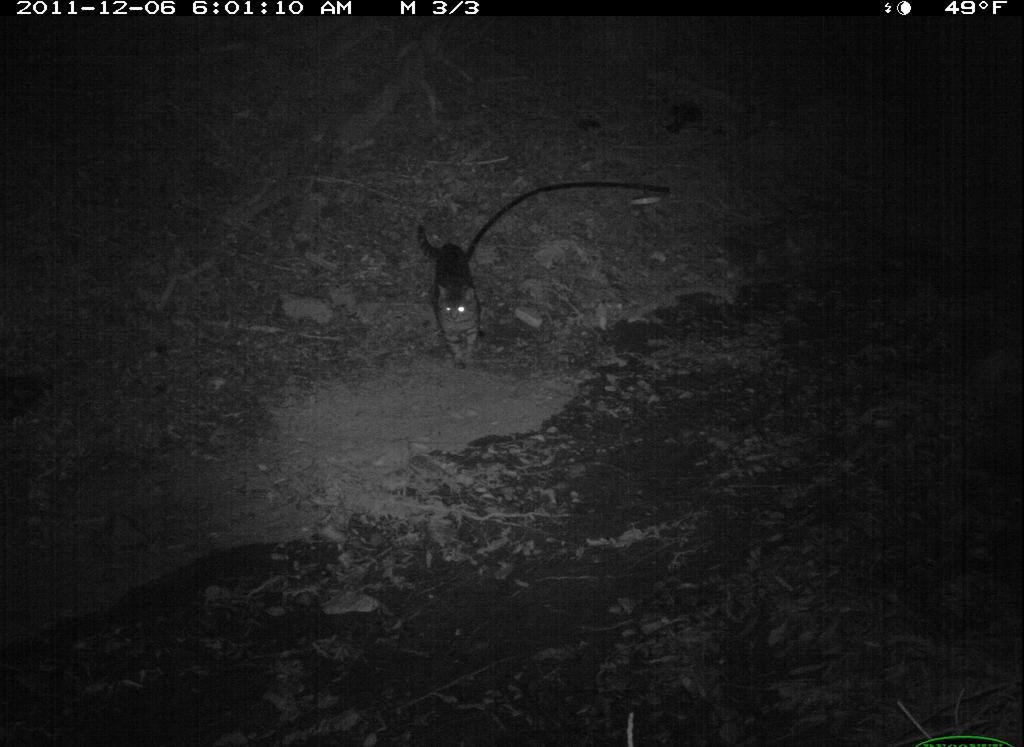cat: (404, 209, 496, 381)
